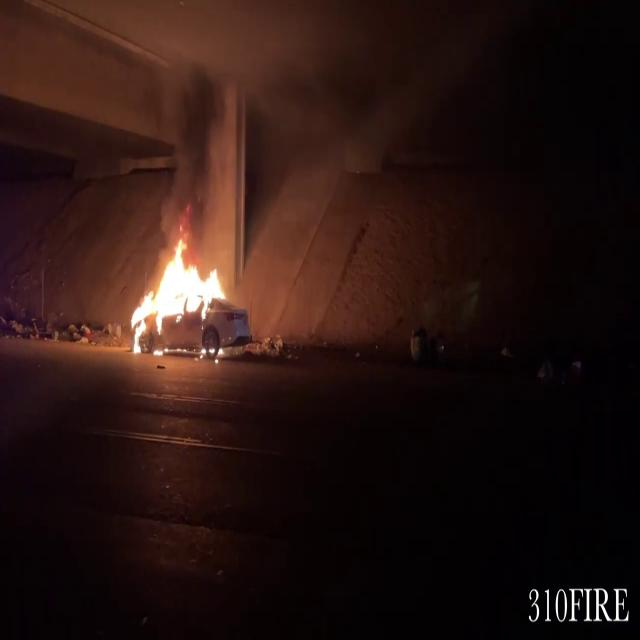Fire: (124, 232, 234, 354)
